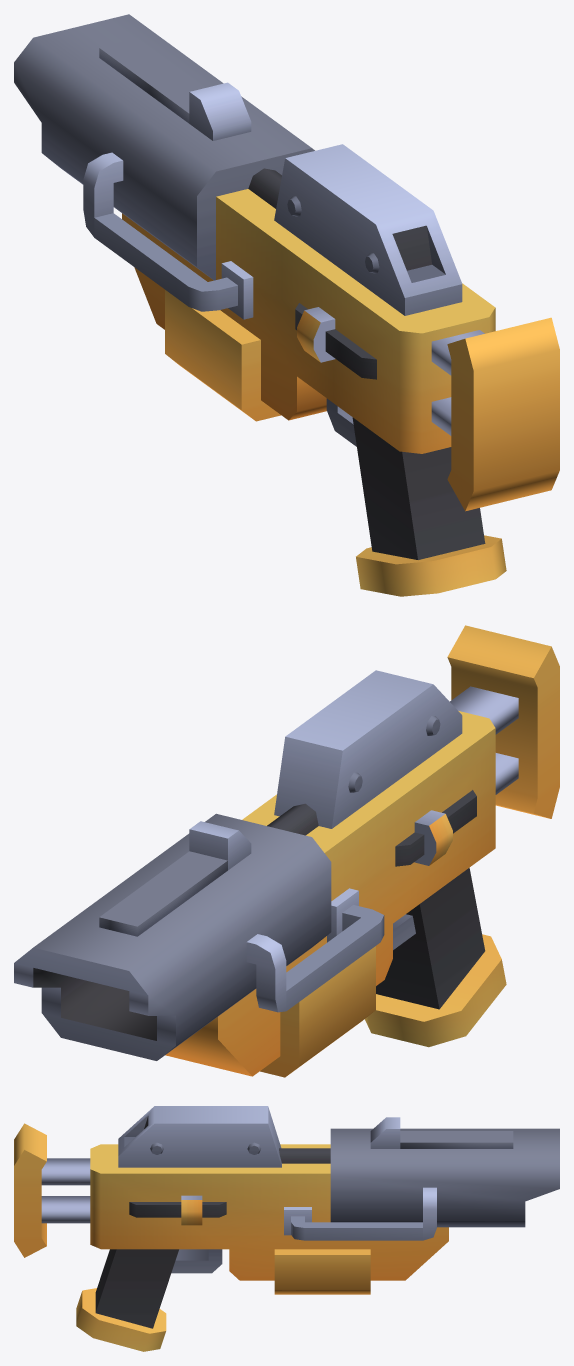
The model's file is blaster-g.glb.
3 views of the same model, one above another, from view 1: azimuth 30°, elevation 25°; view 2: azimuth 150°, elevation 25°; view 3: azimuth 270°, elevation 25° (orthographic). The views are drawn at different scales.
Visible parts, largest first — view 1: blaster-g; view 2: blaster-g; view 3: blaster-g.
Boxes of the visible parts, x1,y1,x2,y2 form: blaster-g: [14, 14, 559, 596]; blaster-g: [14, 625, 559, 1077]; blaster-g: [14, 1106, 559, 1351].
Bounding box in the file's own units: 0.2 × 0.3579 × 0.7859.
Materials: 1 (1 with a texture image).
